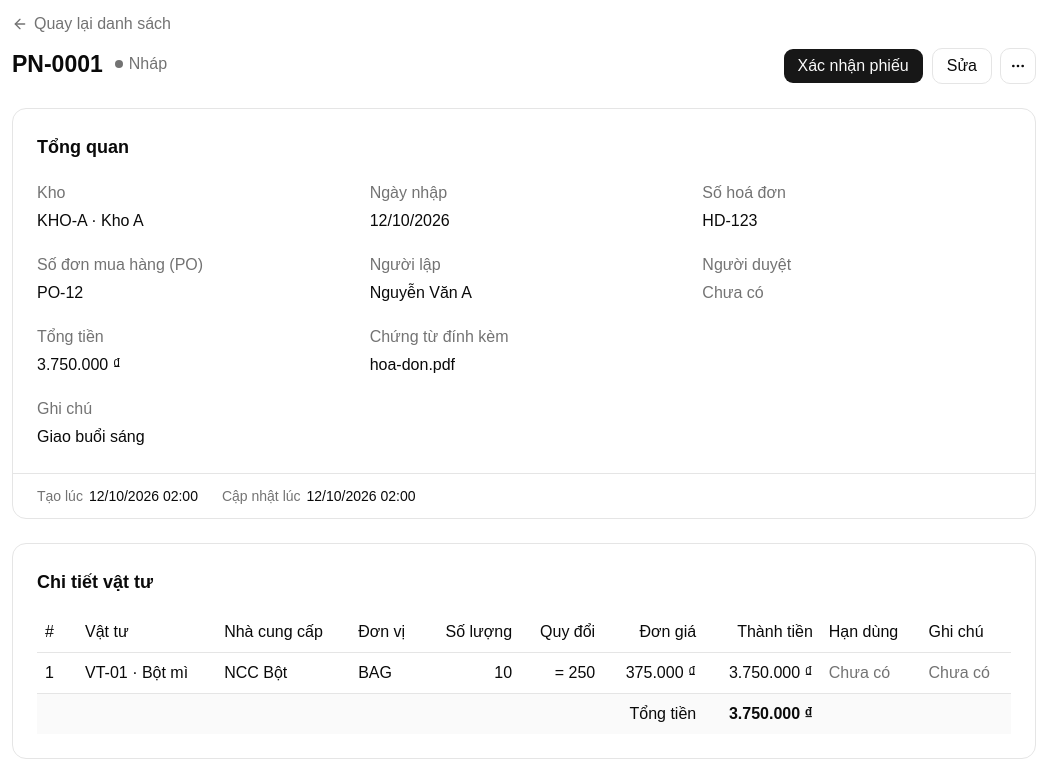
Scenario: ImportFormDetailPage › DRAFT + đủ quyền: Xác nhận, Sửa, menu thao tác khác (Huỷ, Xoá, In)
Expected: the button "Xác nhận phiếu" is shown, [782,48,924,84]
Expected: the button "Sửa" is shown, [932,48,992,84]
Step 1. Click the button named "Thao tác khác" → (1018, 66), box [1000,48,1036,84]
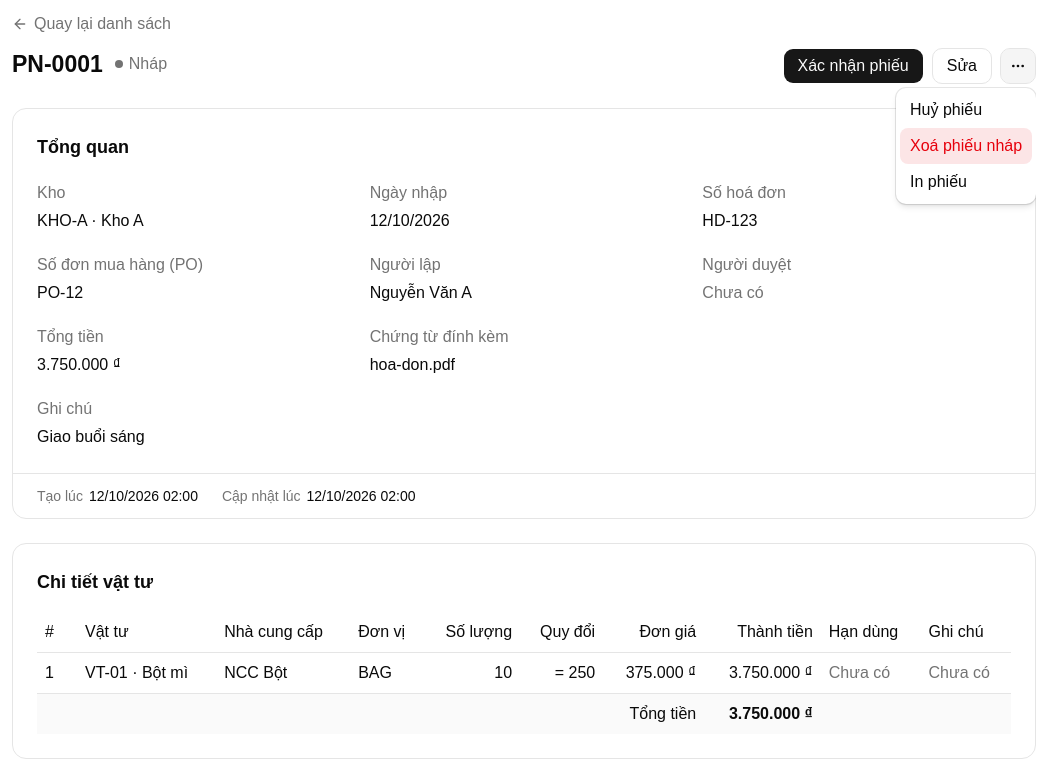
Expected: the menu item "Huỷ phiếu" is shown, [910,101,982,118]
Expected: the menu item "Xoá phiếu nháp" is shown, [900,128,1032,164]
Expected: the menu item "In phiếu" is shown, [910,173,967,190]
